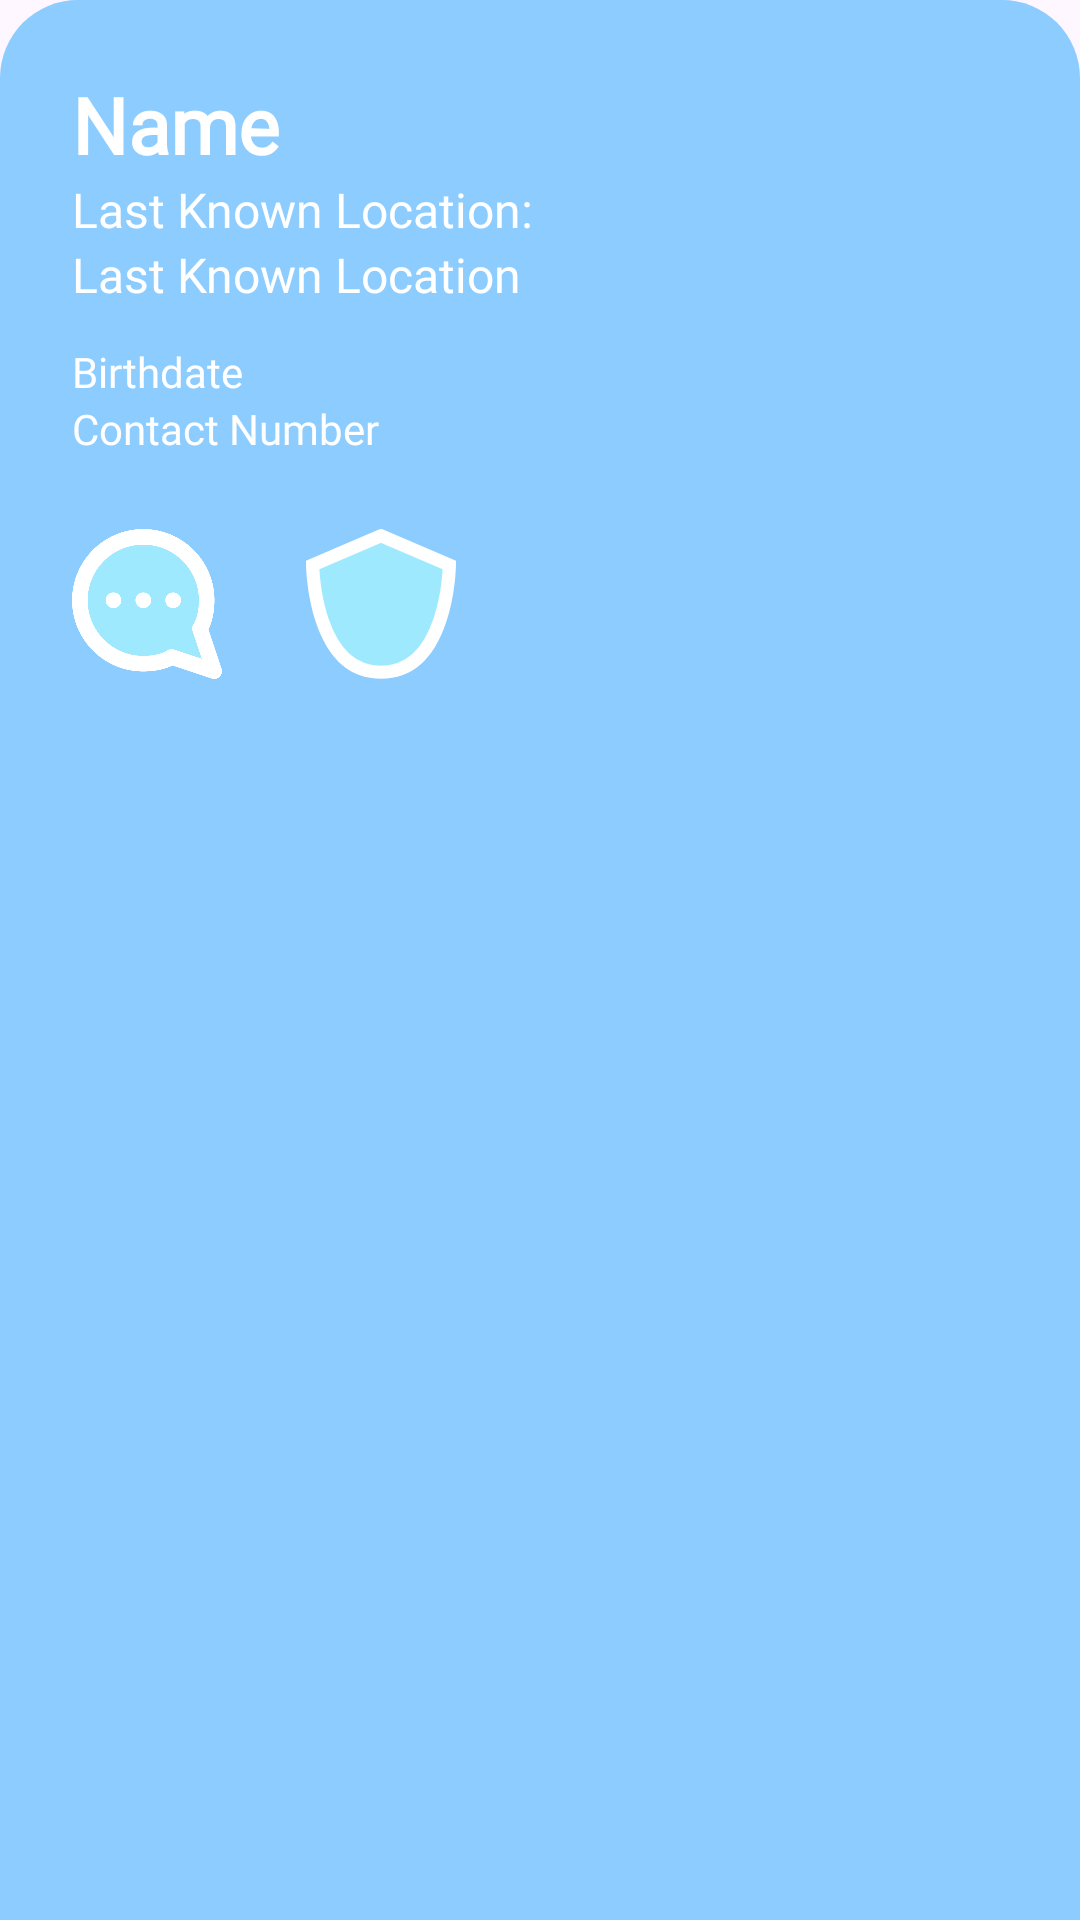

Where to tap for icons on this 1080 × 1920 app screen, as (x,y):
message: (147,604)
